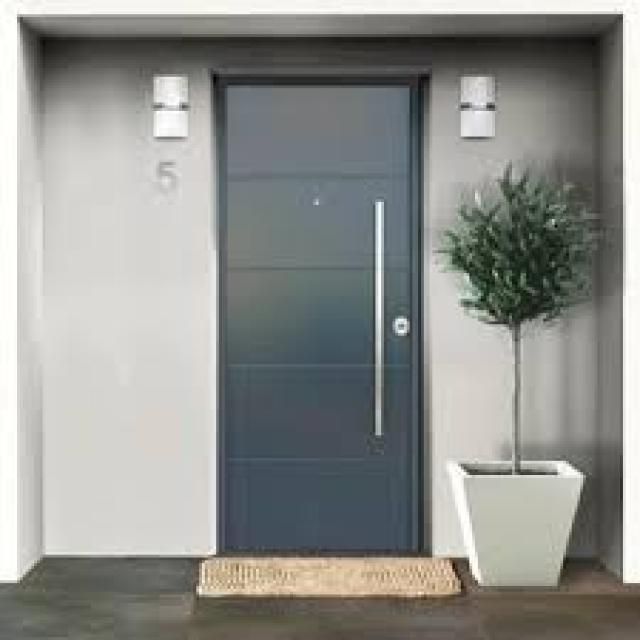door: (215, 74, 425, 555)
